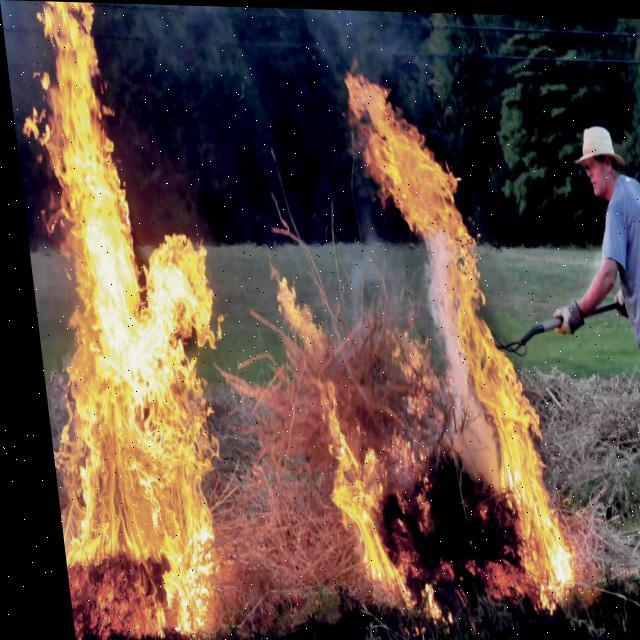Fire: (284, 72, 566, 614), (11, 3, 237, 639)
